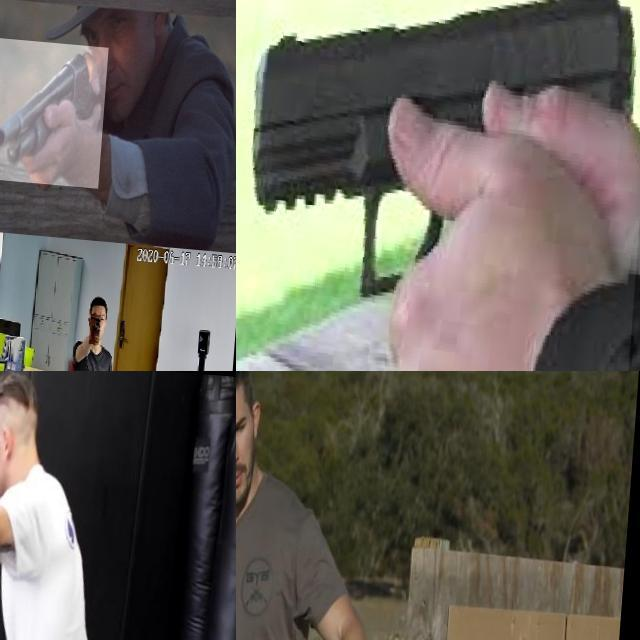-: (0, 479, 40, 598)
gun-knife-thesis - v11 Yolov5 augmented: (236, 0, 640, 371), (0, 30, 110, 179), (0, 38, 34, 142), (95, 304, 106, 336)
